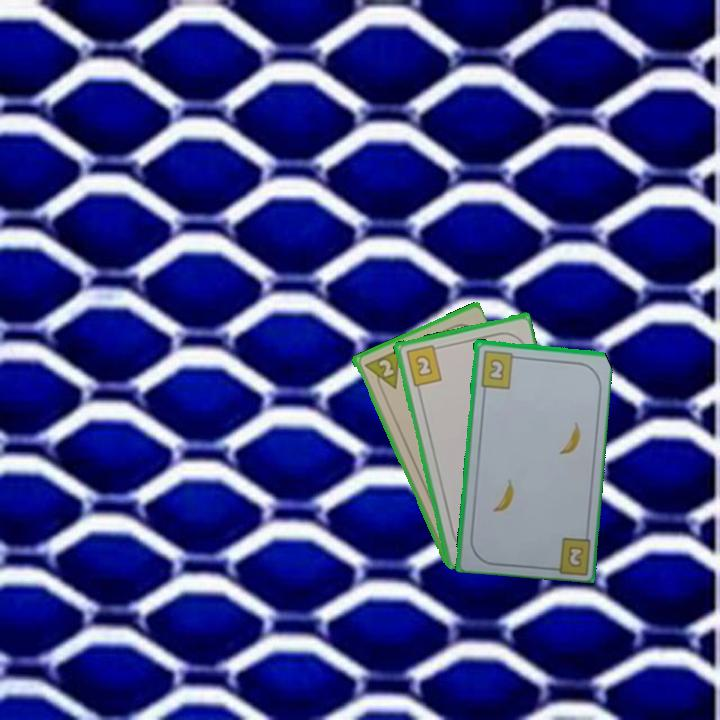2b: (402, 341, 444, 388), (477, 347, 521, 391), (565, 542, 586, 568)
2p: (360, 346, 403, 397)
